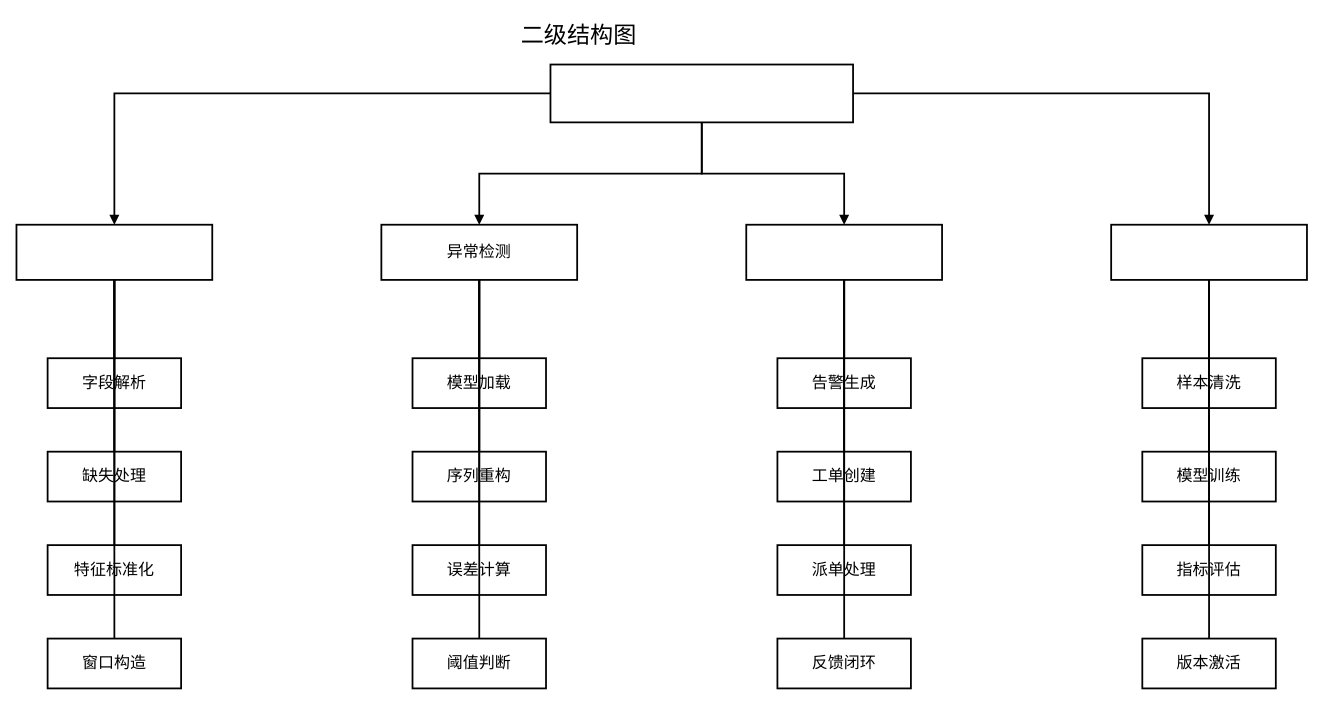
Some shapes in this 1323 by 704 pixel diagram are drawn without their labels. The centre of each missing label's shape, as x and y in pixels:
告警工单: point 844,251
持续训练: point 1208,251
数据预处理: point 114,251
核心变换模块: point 701,93
